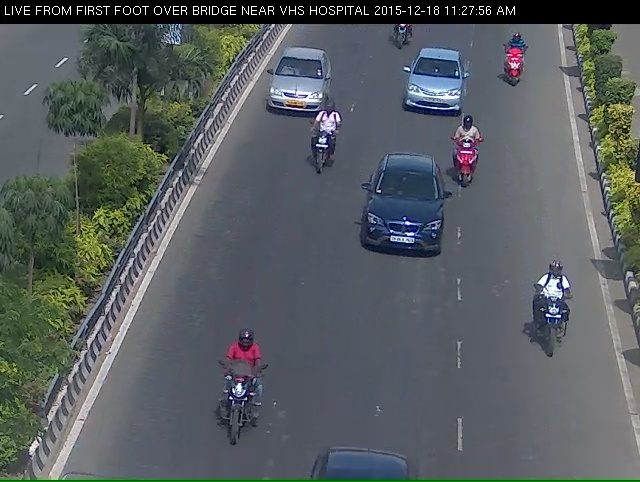Car: (356, 160, 450, 275), (392, 48, 469, 121), (259, 47, 328, 119)
Person: (205, 351, 258, 482), (533, 276, 578, 386), (298, 114, 340, 184), (455, 122, 482, 198), (504, 34, 531, 99)
